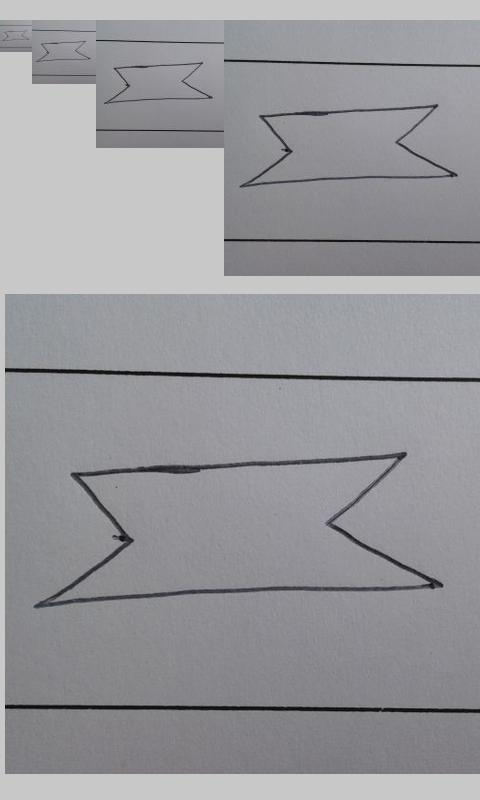edit_text: (29, 452, 444, 611), (238, 103, 457, 189), (103, 62, 213, 104), (36, 40, 91, 62), (2, 30, 29, 42)
